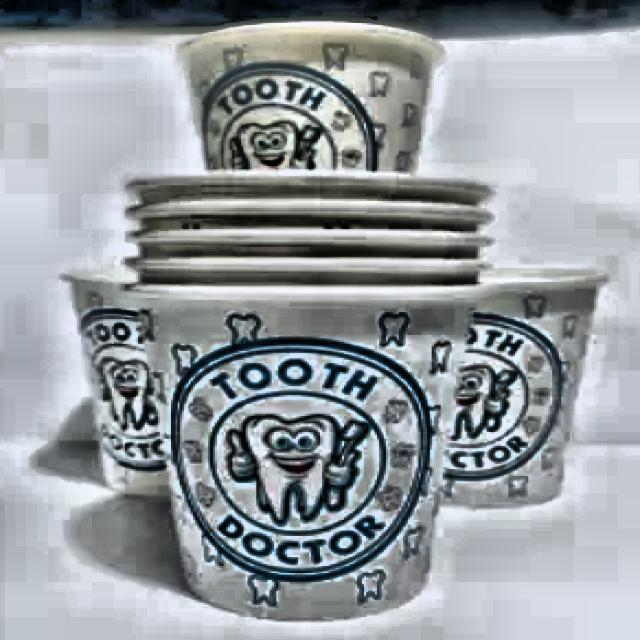Cup: (115, 154, 498, 630)
